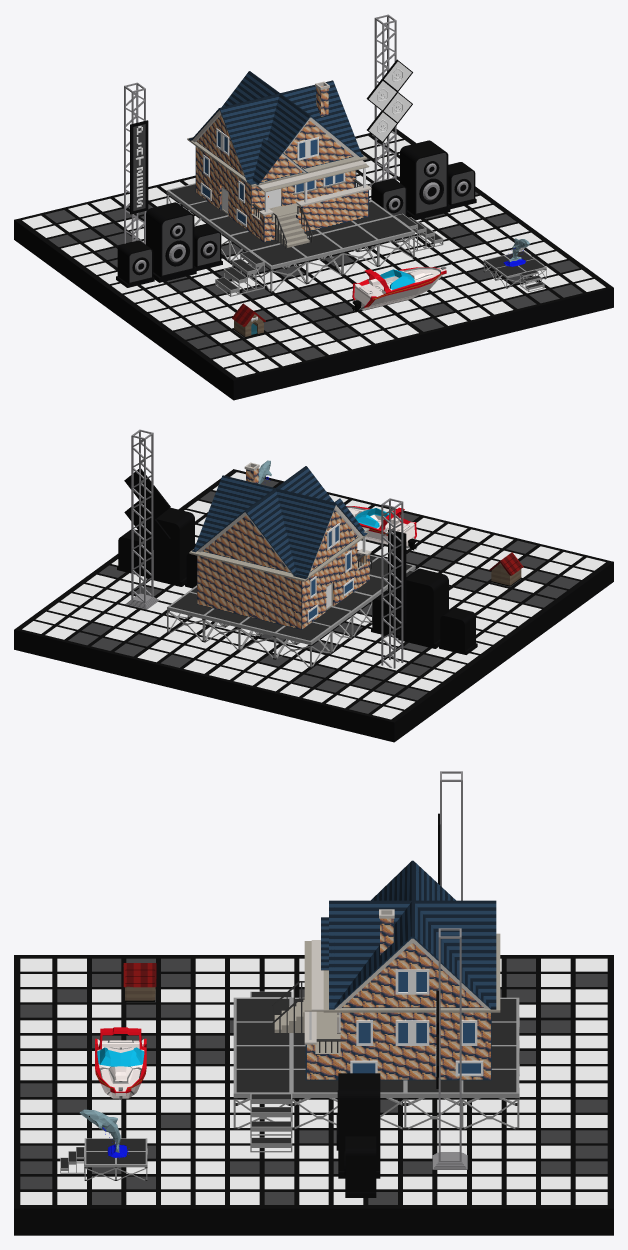
3 views of the same model, one above another, from view 1: azimuth 30°, elevation 25°; view 2: azimuth 150°, elevation 25°; view 3: azimuth 270°, elevation 25° (orthographic). The views are drawn at different scales.
Visible parts, largest first — view 1: Cube.008, Cube.430, VEHICLES_BOAT, OBJRANDOM_DOGHOUSE; view 2: Cube.008, Cube.430, VEHICLES_BOAT, OBJRANDOM_DOGHOUSE; view 3: Cube.008, Cube.430, VEHICLES_BOAT, OBJRANDOM_DOGHOUSE, ANIMAL_DELFIN.
Part boxes in pixels (x1=…): Cube.008: x1=14, y1=14, x2=613, y2=400; Cube.430: x1=187, y1=71, x2=371, y2=248; VEHICLES_BOAT: x1=352, y1=266, x2=446, y2=311; OBJRANDOM_DOGHOUSE: x1=232, y1=303, x2=265, y2=337; Cube.008: x1=14, y1=429, x2=613, y2=742; Cube.430: x1=189, y1=462, x2=372, y2=629; VEHICLES_BOAT: x1=346, y1=506, x2=416, y2=550; OBJRANDOM_DOGHOUSE: x1=489, y1=552, x2=523, y2=586; Cube.008: x1=14, y1=771, x2=613, y2=1235; Cube.430: x1=272, y1=860, x2=500, y2=1080; VEHICLES_BOAT: x1=95, y1=1027, x2=146, y2=1099; OBJRANDOM_DOGHOUSE: x1=123, y1=963, x2=156, y2=1001; ANIMAL_DELFIN: x1=79, y1=1109, x2=129, y2=1158.
Size of the model in its own units: 4000 by 1972 by 4000.
Materials: 40 (2 with a texture image).
